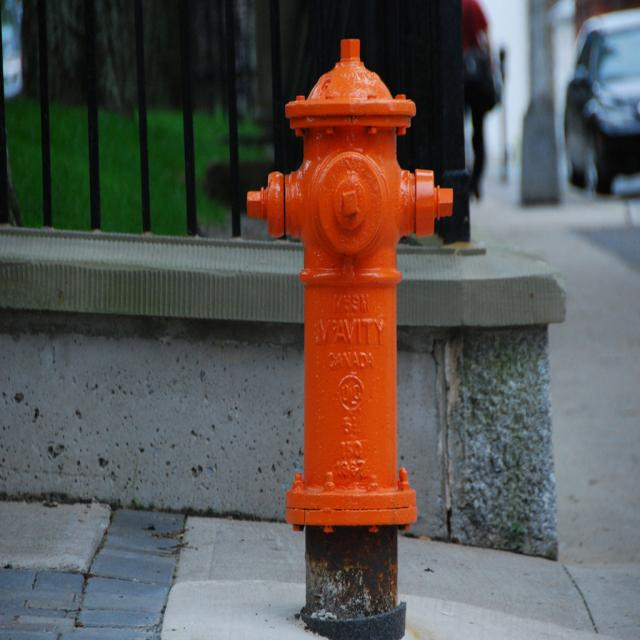fire_hydrant: (246, 35, 453, 639)
